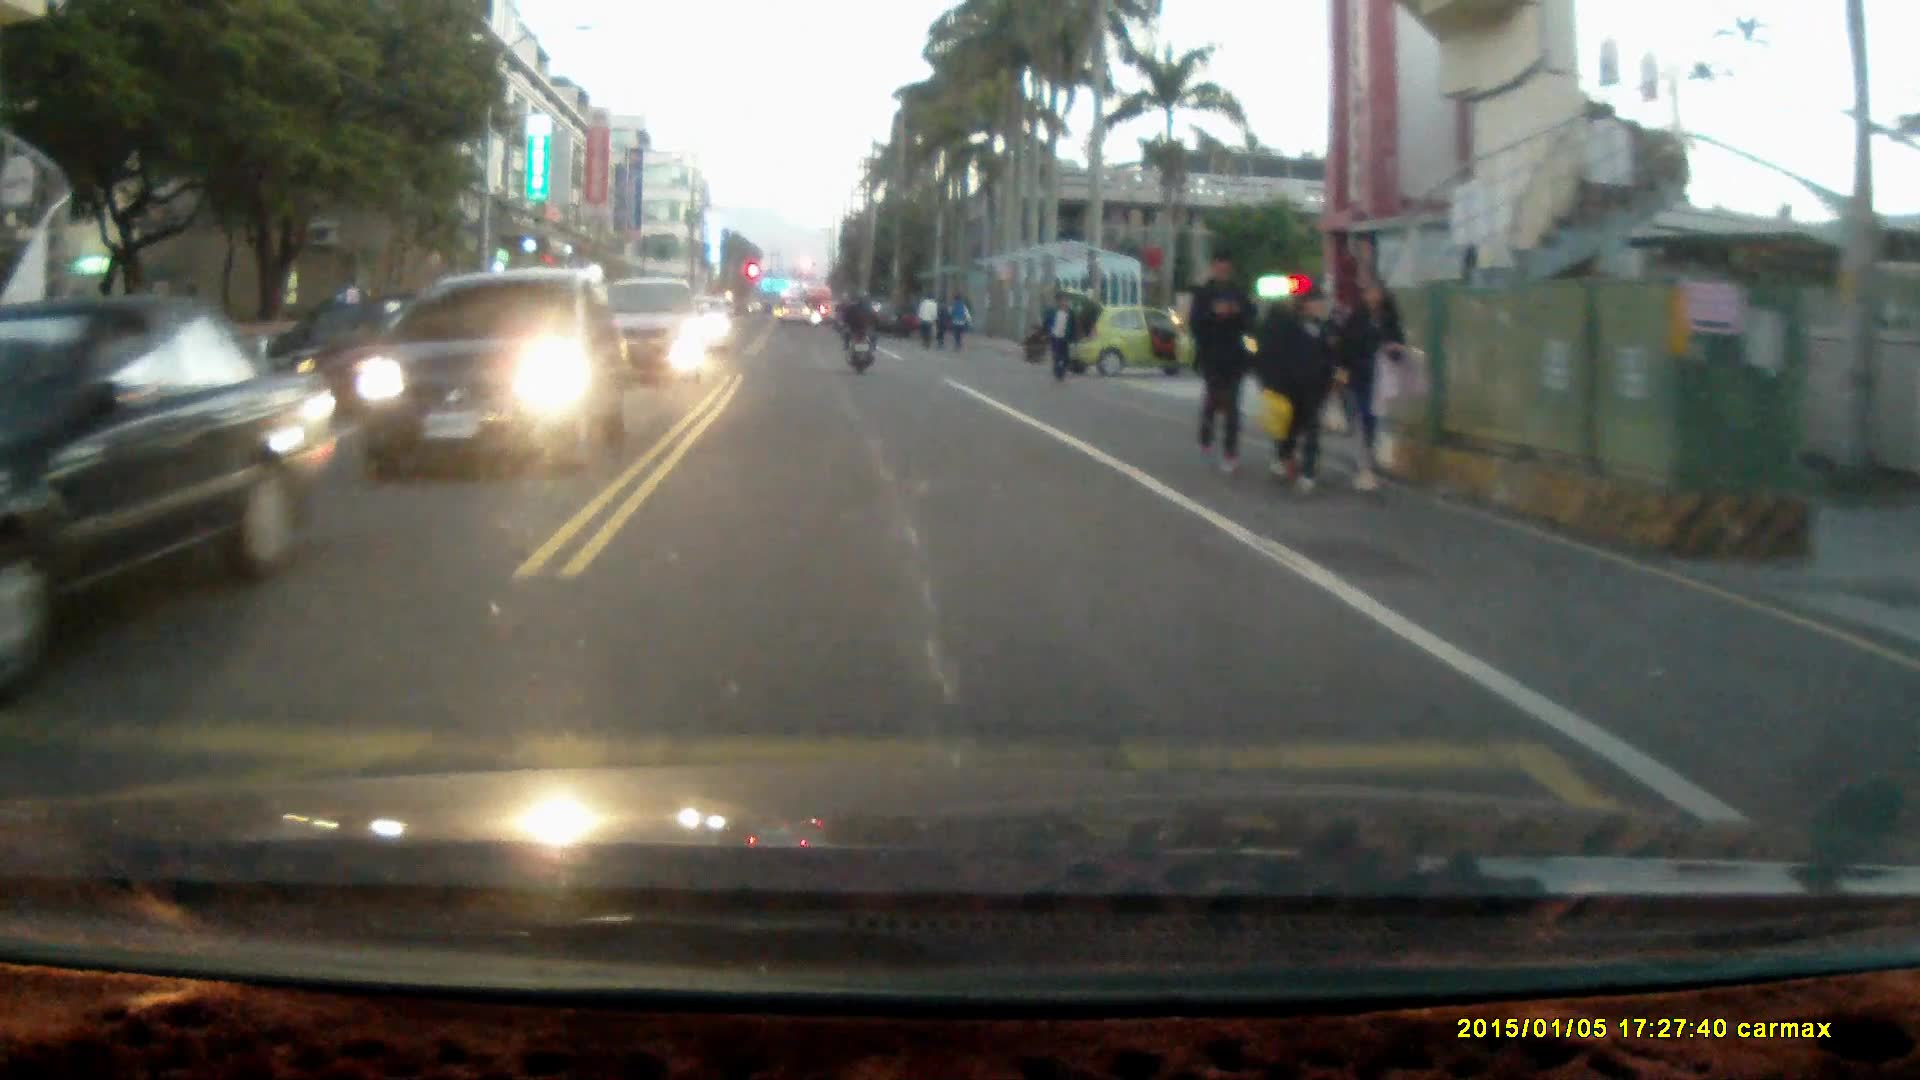pedestrian: (1252, 279, 1335, 494), (1186, 243, 1258, 479), (1334, 275, 1408, 498), (1041, 290, 1076, 385)
rider: (839, 286, 880, 374)
vehicle: (1, 286, 365, 660), (354, 263, 624, 471), (1055, 279, 1214, 372), (591, 275, 709, 380)
